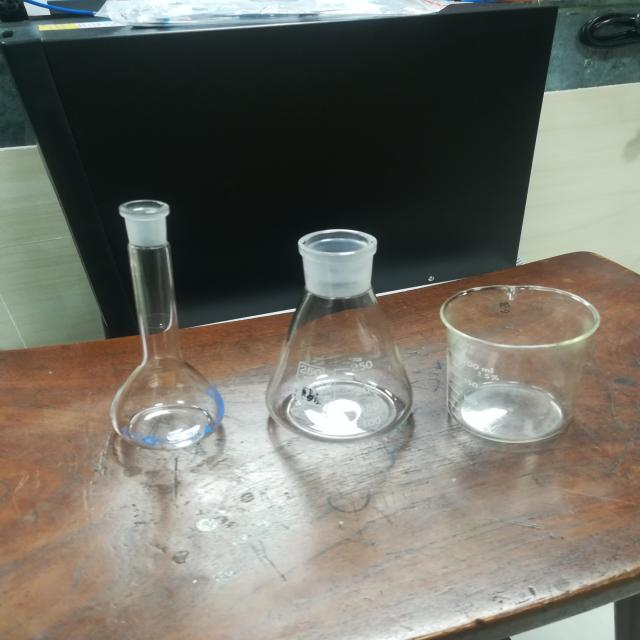Beaker: (432, 274, 608, 446)
Conical_Flask: (265, 220, 418, 453)
Volumetric_Flask: (84, 176, 236, 462)
